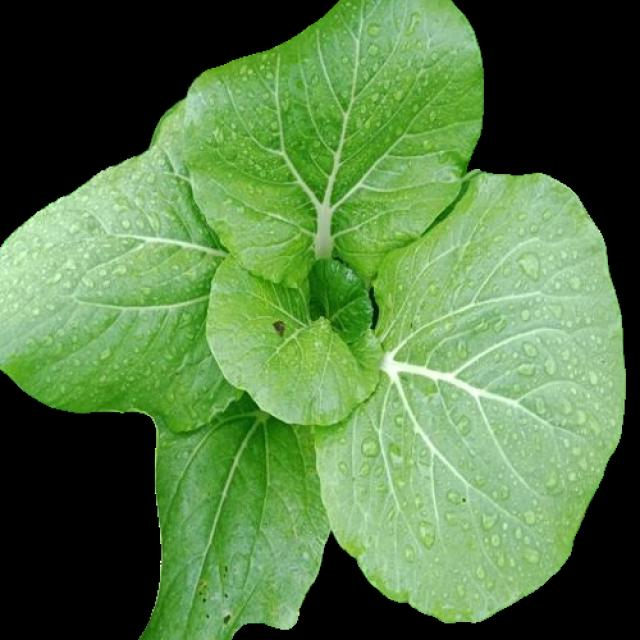mature: (1, 1, 621, 639)
unhealthy: (140, 414, 330, 640)
